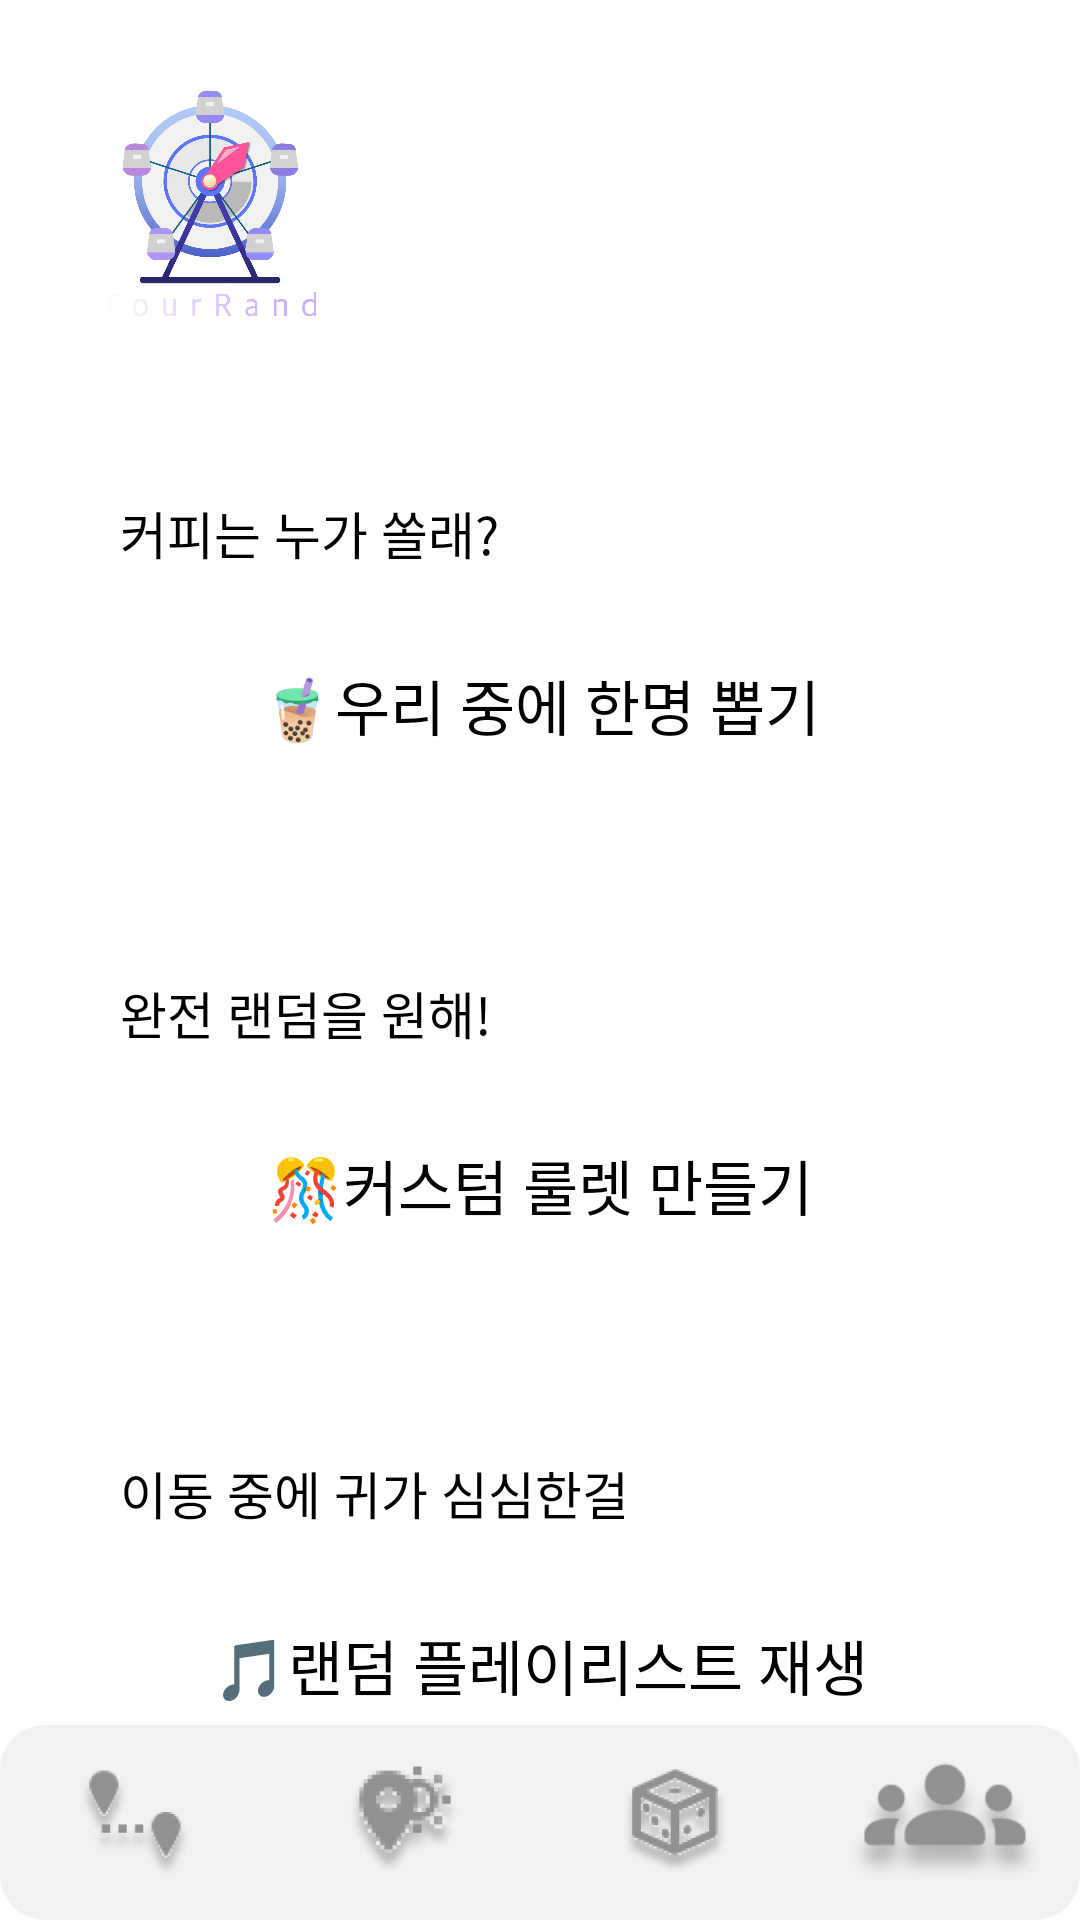

Screen size 1080 x 1920. Icon name, then its box in pixels as (x1,y1,x2,y2):
group off: (864,1763,1026,1866)
random off: (631,1769,719,1866)
